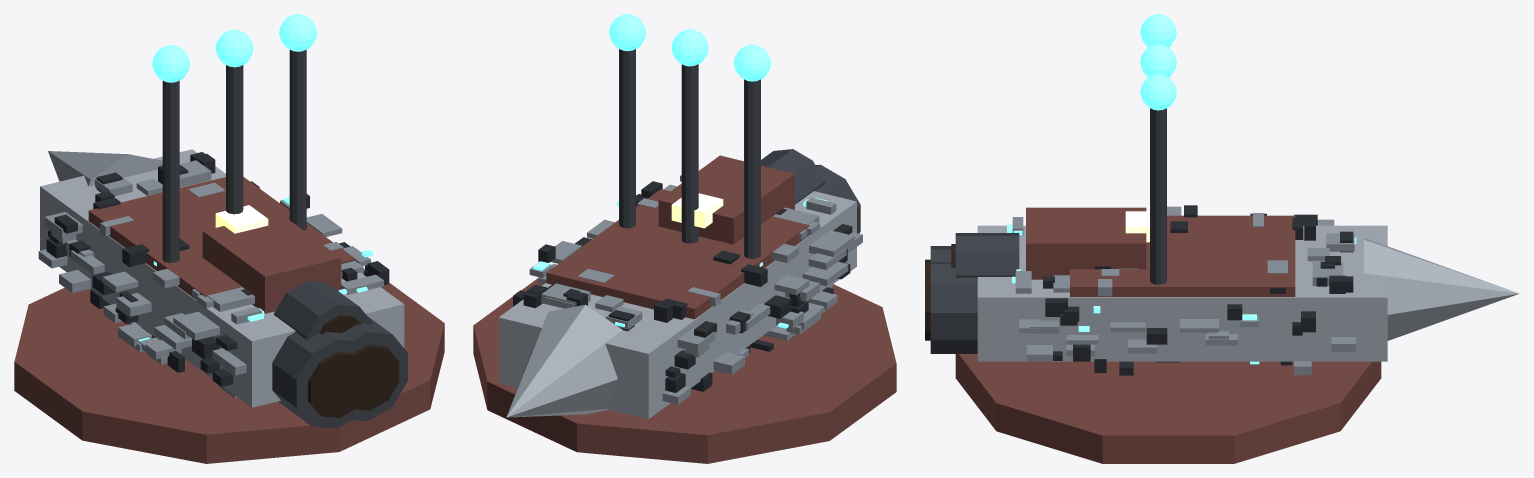
Rendered from troyden_ecm.glb.
The picture shows the model from 3 angles, left to right: view 1: azimuth 30°, elevation 25°; view 2: azimuth 150°, elevation 25°; view 3: azimuth 270°, elevation 25°; orthographic projection. The views are drawn at different scales.
Parts seen in each view (by area): view 1: hull, emitter, engines; view 2: hull, emitter, engines; view 3: hull, emitter, engines.
Part boxes in pixels (left/top/right/bottom): hull: left=38, top=14, right=404, bottom=407; emitter: left=14, top=283, right=444, bottom=463; engines: left=272, top=280, right=407, bottom=428; hull: left=498, top=14, right=862, bottom=419; emitter: left=473, top=278, right=896, bottom=463; engines: left=761, top=149, right=860, bottom=233; hull: left=977, top=14, right=1519, bottom=375; emitter: left=955, top=354, right=1381, bottom=463; engines: left=925, top=233, right=1019, bottom=353.
Size of the model in its own units: 37.66 by 35.77 by 55.36.
